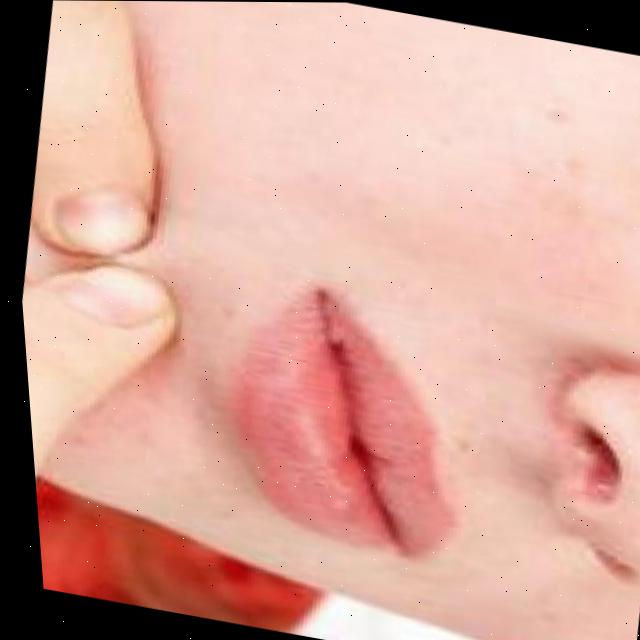Acne: (107, 248, 133, 270)
